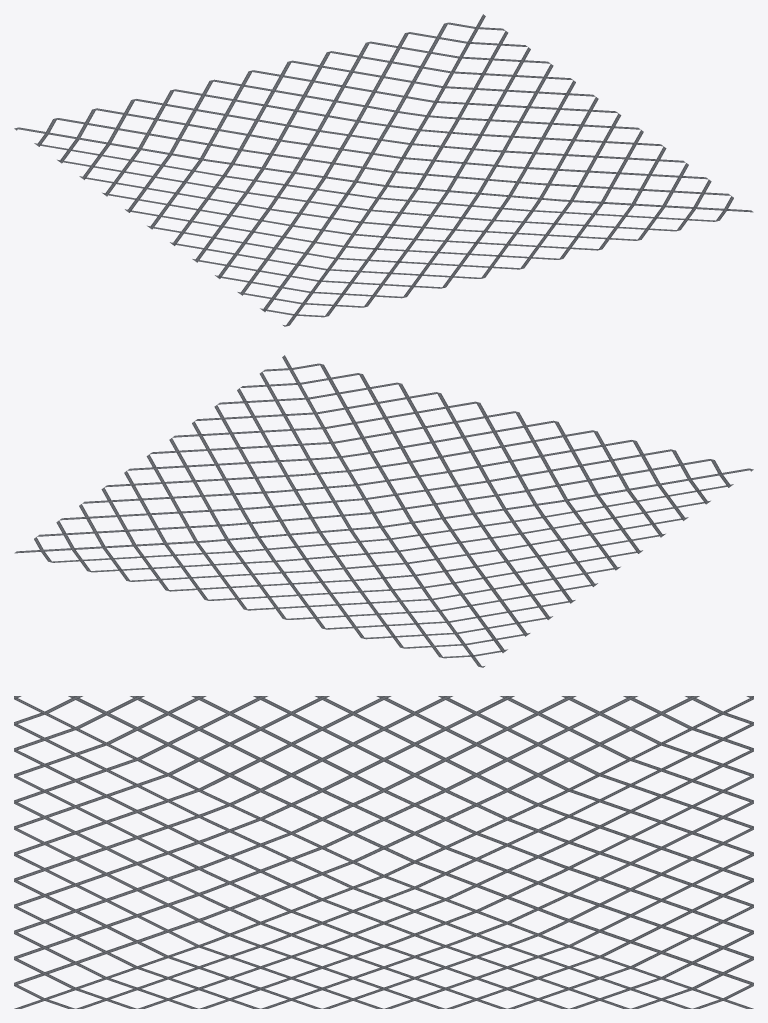
Rendered from kd_stage_135b75_4_162.glb.
3 views of the same model, one above another, from view 1: azimuth 30°, elevation 25°; view 2: azimuth 150°, elevation 25°; view 3: azimuth 270°, elevation 25° (orthographic). The views are drawn at different scales.
Visible parts, largest first — view 1: kd_stage_135b75_4_162; view 2: kd_stage_135b75_4_162; view 3: kd_stage_135b75_4_162.
Part boxes in pixels (x1,y1,x2,y2): kd_stage_135b75_4_162: (14,14,753,326); kd_stage_135b75_4_162: (14,355,753,667); kd_stage_135b75_4_162: (14,696,753,1008).
Bounding box in the file's own units: 0.9083 × 0.03 × 0.9083.
1 material, 1 textured.
